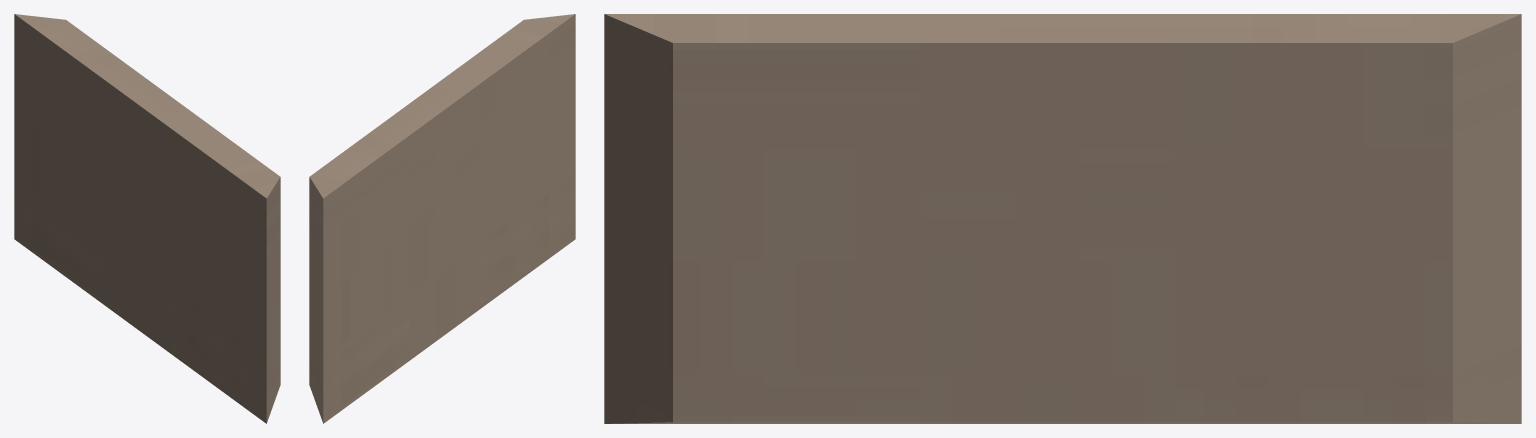
The model's file is wall3.glb.
The picture shows the model from 3 angles, left to right: view 1: azimuth 30°, elevation 25°; view 2: azimuth 150°, elevation 25°; view 3: azimuth 270°, elevation 25°; orthographic projection. The views are drawn at different scales.
Visible parts, largest first — view 1: Wall3; view 2: Wall3; view 3: Wall3.
Boxes of the visible parts, <box> form: Wall3: <box>14,14,280,423</box>; Wall3: <box>309,14,575,423</box>; Wall3: <box>604,14,1521,423</box>.
Size of the model in its own units: 0.8821 by 5.8 by 11.76.
1 material, 1 textured.
